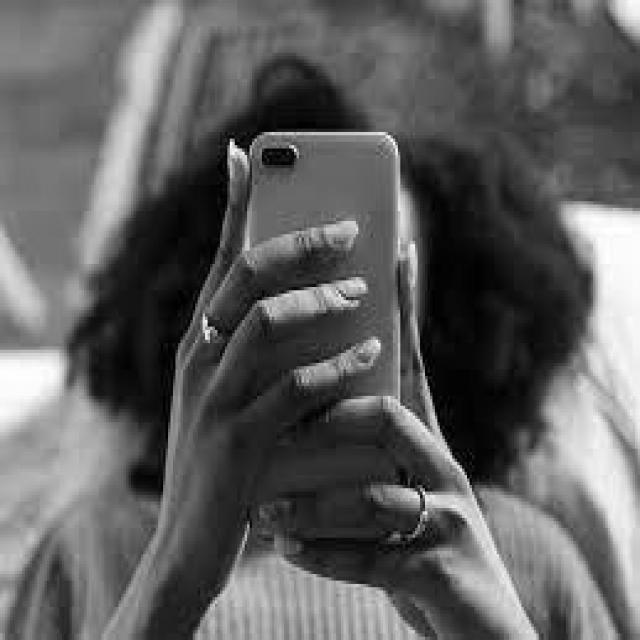No gun_phone: (250, 135, 402, 545)
